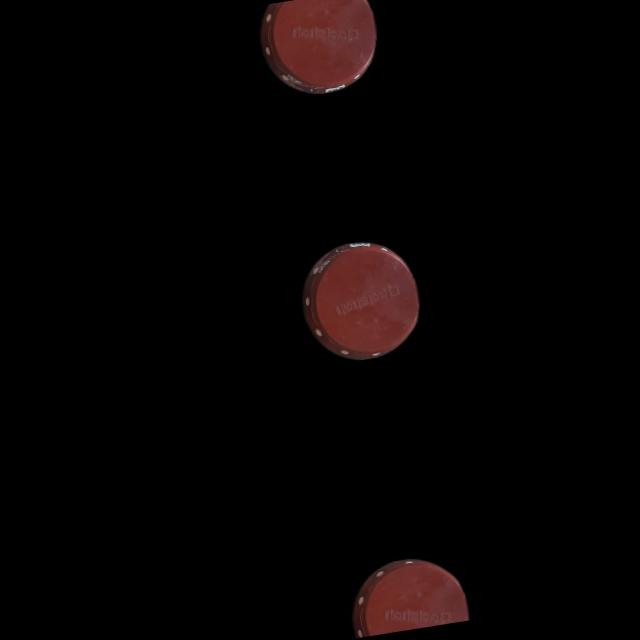Badshah Afgani Hing: (294, 224, 424, 371), (256, 0, 383, 109), (344, 546, 466, 638)
